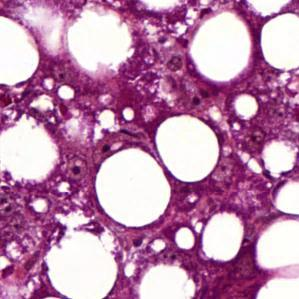steatosis: (89, 141, 176, 229), (190, 15, 259, 82), (158, 112, 219, 182)
